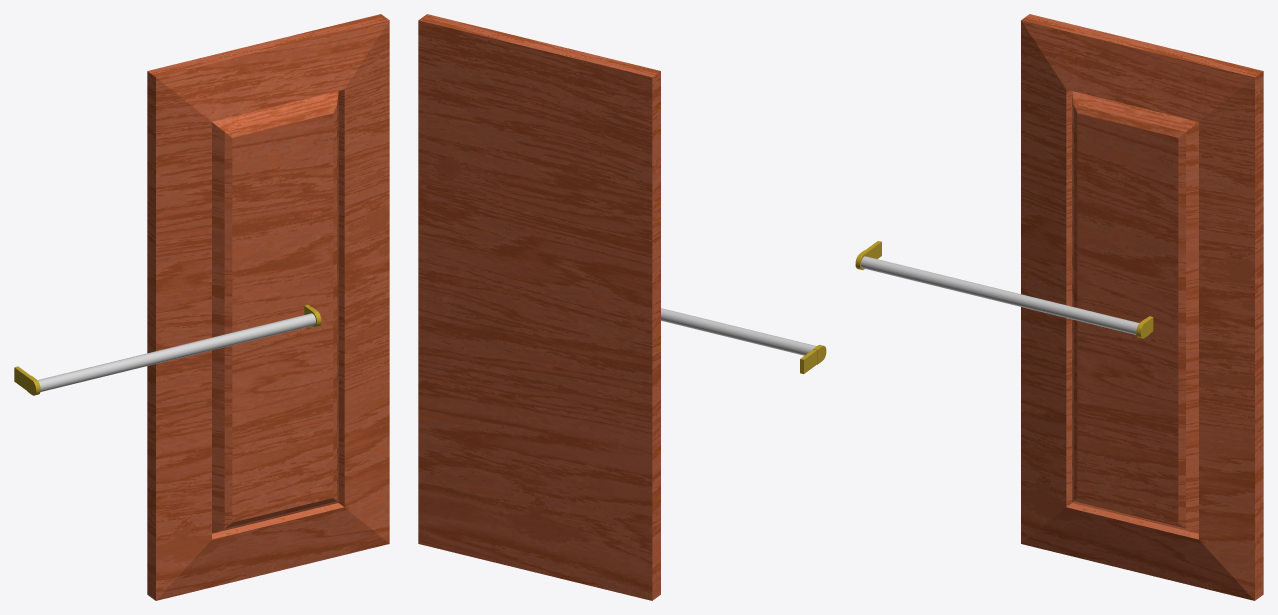
Rendered from Cabinet_a2eb323c.obj.
3 renders of one model, left to right at view 1: azimuth 30°, elevation 25°; view 2: azimuth 150°, elevation 25°; view 3: azimuth 330°, elevation 25°, orthographic.
Parts seen in each view (by area): view 1: Mesh_01_f0e30431, handle_2_305mm_01_155c5387; view 2: Mesh_01_f0e30431, handle_2_305mm_01_155c5387; view 3: Mesh_01_f0e30431, handle_2_305mm_01_155c5387.
Boxes of the visible parts, <box> form: Mesh_01_f0e30431: <box>147,14,389,600</box>; handle_2_305mm_01_155c5387: <box>14,305,321,395</box>; Mesh_01_f0e30431: <box>418,14,660,600</box>; handle_2_305mm_01_155c5387: <box>661,308,826,373</box>; Mesh_01_f0e30431: <box>1021,14,1263,600</box>; handle_2_305mm_01_155c5387: <box>855,241,1153,338</box>.
Size of the model in its own units: 0.4025 by 0.535 by 0.0585.
